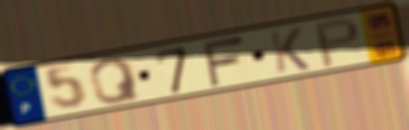5: (40, 62, 92, 114)
7: (154, 45, 190, 95)
F: (200, 33, 247, 89)
K: (266, 25, 312, 75)
P: (312, 16, 362, 70)
Q: (87, 56, 144, 106)
